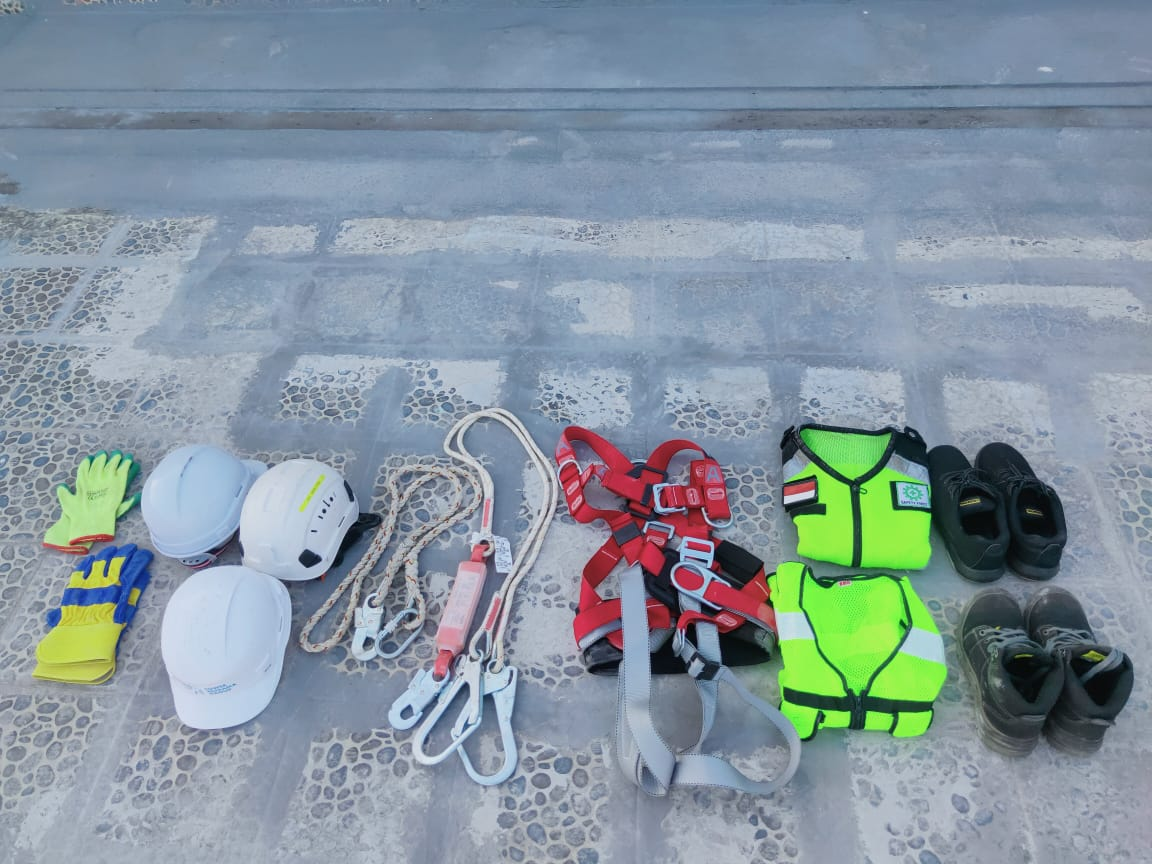HELM: (160, 575, 289, 723)
ROMPI: (787, 435, 929, 566)
SEPATU: (974, 594, 1107, 754)
TAMBANG_SLING: (597, 504, 762, 686)
